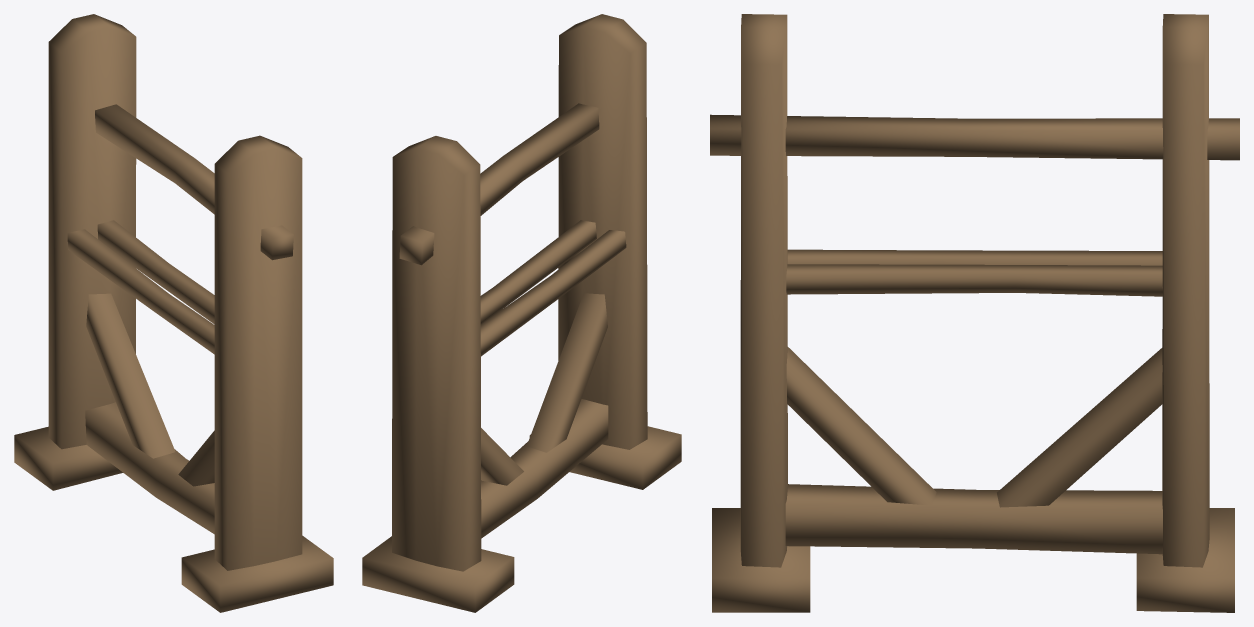
Rendered from rpgpp_ag_tool_rack_01.fbx.
The picture shows the model from 3 angles, left to right: view 1: azimuth 30°, elevation 25°; view 2: azimuth 150°, elevation 25°; view 3: azimuth 270°, elevation 25°; orthographic projection. The views are drawn at different scales.
Parts seen in each view (by area): view 1: rpgpp_ag_tool_rack_01; view 2: rpgpp_ag_tool_rack_01; view 3: rpgpp_ag_tool_rack_01.
Part boxes in pixels (x1=…): rpgpp_ag_tool_rack_01: x1=14, y1=14, x2=333, y2=612; rpgpp_ag_tool_rack_01: x1=362, y1=14, x2=681, y2=612; rpgpp_ag_tool_rack_01: x1=710, y1=14, x2=1239, y2=612.
Size of the model in its own units: 0.3525 by 1.31 by 1.13.
